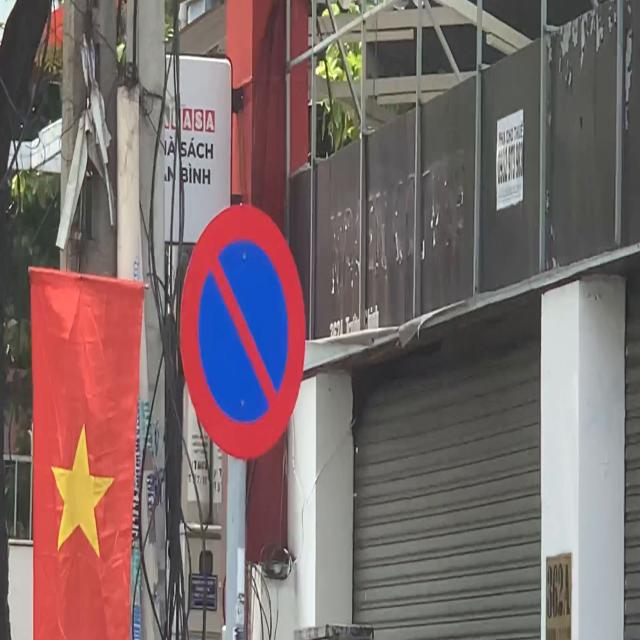Cam do: (180, 199, 306, 462)
